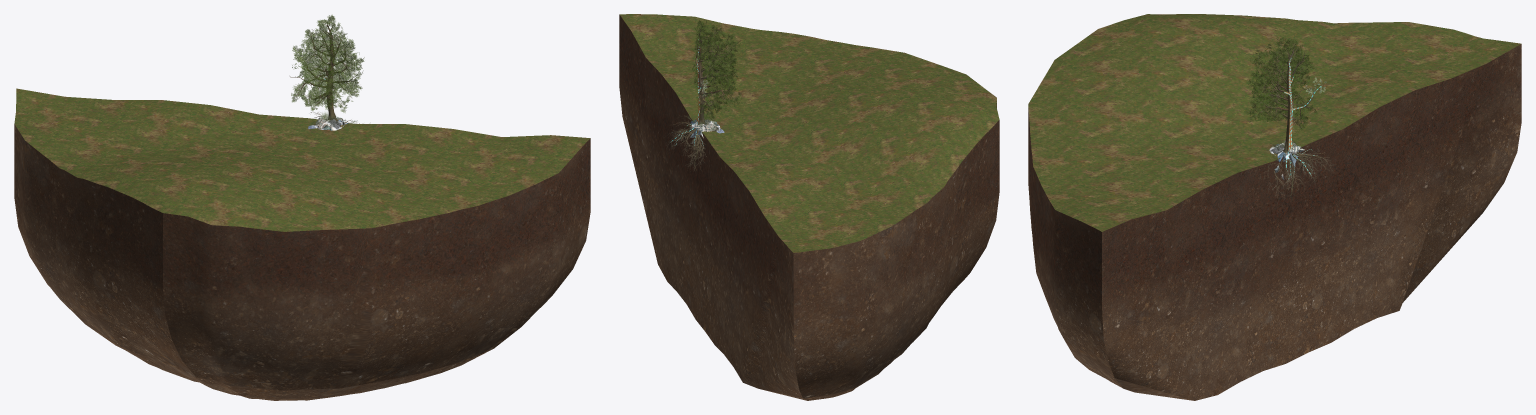
File: Tree.gltf
3 renders of one model, left to right at view 1: azimuth 30°, elevation 25°; view 2: azimuth 150°, elevation 25°; view 3: azimuth 270°, elevation 25°, orthographic. The views are drawn at different scales.
Visible parts, largest first — view 1: Plane, w, TREE_A10_Mat_0.001; view 2: Plane, w, TREE_A10_Mat_0.001, SOIL_Mat_0.001; view 3: Plane, w, TREE_A10_Mat_0.001, SOIL_Mat_0.001.
Boxes of the visible parts, box(x1,y1,x2,y2) form: Plane: box(14, 88, 590, 400); w: box(291, 15, 370, 123); TREE_A10_Mat_0.001: box(290, 21, 359, 123); Plane: box(619, 14, 999, 400); w: box(666, 20, 741, 171); TREE_A10_Mat_0.001: box(669, 29, 734, 170); SOIL_Mat_0.001: box(689, 120, 724, 143); Plane: box(1028, 14, 1521, 400); w: box(1244, 37, 1334, 202); TREE_A10_Mat_0.001: box(1257, 43, 1326, 200); SOIL_Mat_0.001: box(1269, 140, 1304, 179).
Size of the model in its own units: 48.97 by 35.85 by 47.11.
